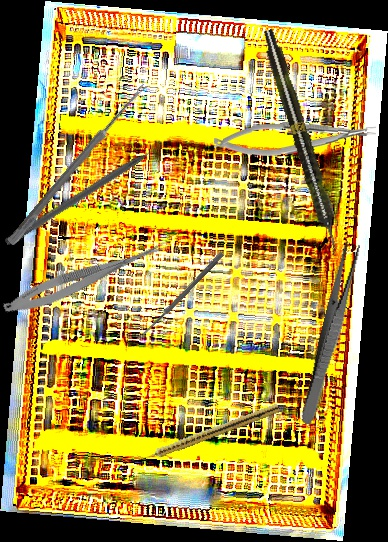Dressing Forceps: (298, 240, 363, 427)
Handpiece: (258, 27, 346, 257), (136, 400, 281, 466)
Micro Scissor: (0, 230, 172, 322)
Needle Holder: (213, 119, 377, 158)
Pusher: (3, 136, 174, 249)
Surgical Spoon: (7, 81, 148, 247), (137, 251, 225, 341)
